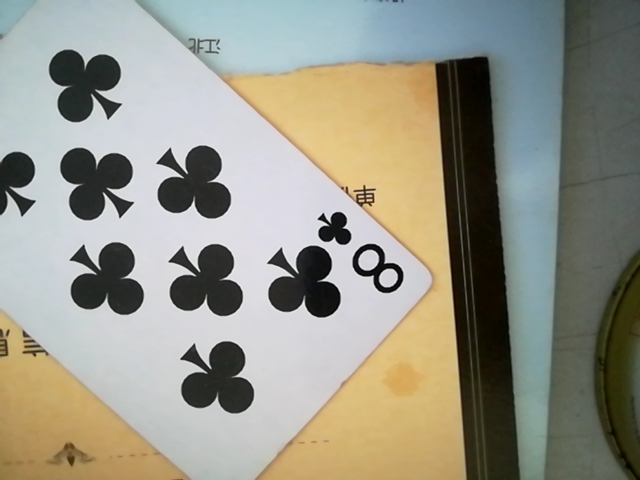mh 8: (0, 5, 452, 477)
